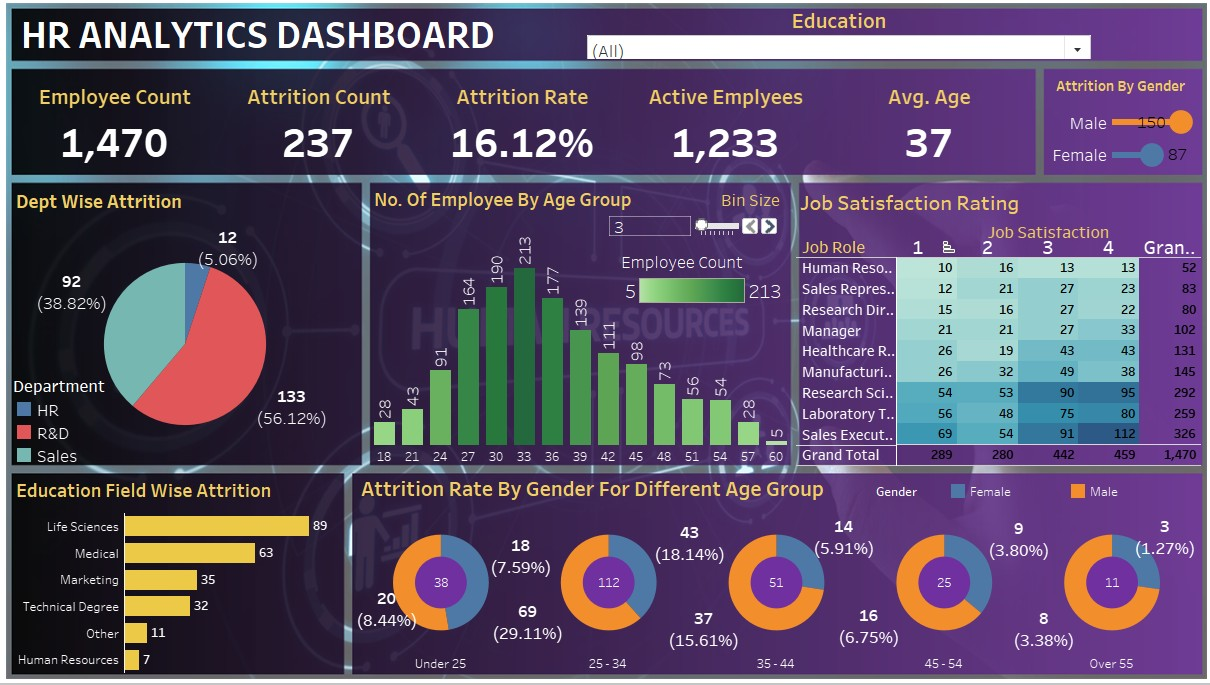

What the dashboard file says about the page in this screenshot:
{"tool":"tableau","page":{"name":"HR Analytics Dashboard","canvas":[1280,700],"ordinal":0},"visuals":[{"type":"image","param":"Image/HR background final.png","box":[8,8,1264,684]},{"type":"filter","title":"Dept Wise Attrition","param":"[federated.0ip1zpd0ai3lzq1g1te4b1hxfe0w].[none:Education:nk]","box":[617,15,510,53]},{"type":"text","box":[50,22,490,41]},{"type":"worksheet","title":"KPI","mark":"Automatic","box":[46,79,1019,102]},{"type":"worksheet","title":"Attrition By Gender","mark":"Automatic","rows":["Gender"],"cols":["Calculation_170010950689271808","Calculation_170010950689271808"],"box":[1077,81,153,99]},{"type":"worksheet","title":"No. Of Employee By Age Group","mark":"Automatic","rows":["Employee Count"],"cols":["Age (bin)"],"box":[403,191,420,284]},{"type":"worksheet","title":"Dept Wise Attrition","mark":"Pie","box":[45,193,346,280]},{"type":"worksheet","title":"Job Satisfaction Rating","mark":"Square","rows":["Job Role"],"cols":["Job Satisfaction"],"box":[829,193,405,283]},{"type":"parameter","param":"[Parameters].[Parameter 1]","box":[639,198,174,54]},{"type":"legend","title":"No. Of Employee By Age Group","param":"[federated.0ip1zpd0ai3lzq1g1te4b1hxfe0w].[sum:Employee Count:qk]","box":[654,259,165,53]},{"type":"legend","title":"Dept Wise Attrition","param":"[federated.0ip1zpd0ai3lzq1g1te4b1hxfe0w].[none:Department:nk]","box":[46,384,103,109]},{"type":"worksheet","title":"Attrition Rate By Gender For Different Age Group","mark":"Pie","rows":["Calculation_170010950747795461","Calculation_170010950747795461"],"cols":["CF_age band"],"box":[390,479,840,203]},{"type":"worksheet","title":"Education Field Wise Attrition","mark":"Automatic","rows":["Education Field"],"cols":["Calculation_170010950689271808"],"box":[45,482,330,200]},{"type":"legend","title":"Attrition Rate By Gender For Different Age Group","param":"[federated.0ip1zpd0ai3lzq1g1te4b1hxfe0w].[none:Gender:nk]","box":[909,490,318,34]}]}

Visuals, with their boxes in screenshot pixels (x1, y1, x2, y2):
image: Rect(0, 0, 1209, 681)
"Dept Wise Attrition" filter: Rect(584, 2, 1095, 56)
text: Rect(15, 9, 506, 51)
"KPI" worksheet: Rect(11, 67, 1033, 169)
"Attrition By Gender" worksheet: Rect(1045, 69, 1198, 168)
"No. Of Employee By Age Group" worksheet: Rect(369, 179, 790, 463)
"Dept Wise Attrition" worksheet (Pie marks): Rect(10, 181, 357, 461)
"Job Satisfaction Rating" worksheet (Square marks): Rect(796, 181, 1202, 464)
parameter: Rect(606, 186, 780, 240)
"No. Of Employee By Age Group" legend: Rect(621, 247, 786, 300)
"Dept Wise Attrition" legend: Rect(11, 372, 115, 481)
"Attrition Rate By Gender For Different Age Group" worksheet (Pie marks): Rect(356, 467, 1198, 671)
"Education Field Wise Attrition" worksheet: Rect(10, 470, 341, 671)
"Attrition Rate By Gender For Different Age Group" legend: Rect(876, 478, 1195, 512)
